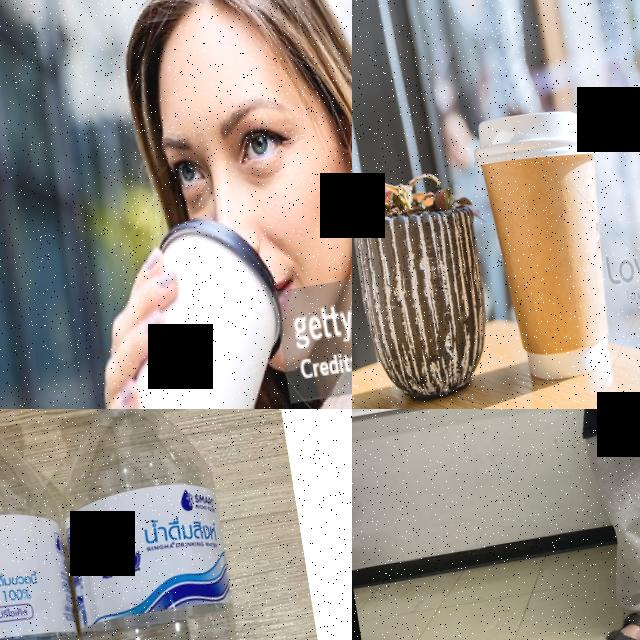bottle: (39, 409, 289, 640), (0, 409, 132, 640)
cup: (468, 97, 636, 393), (80, 207, 316, 409)
